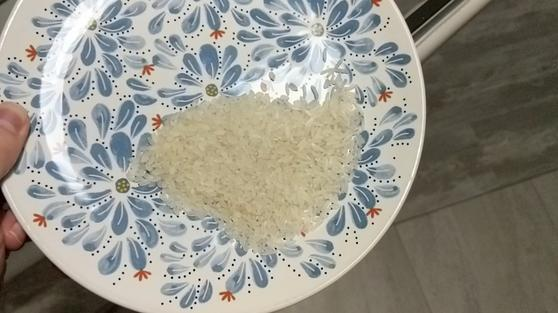rice: (117, 75, 375, 253)
